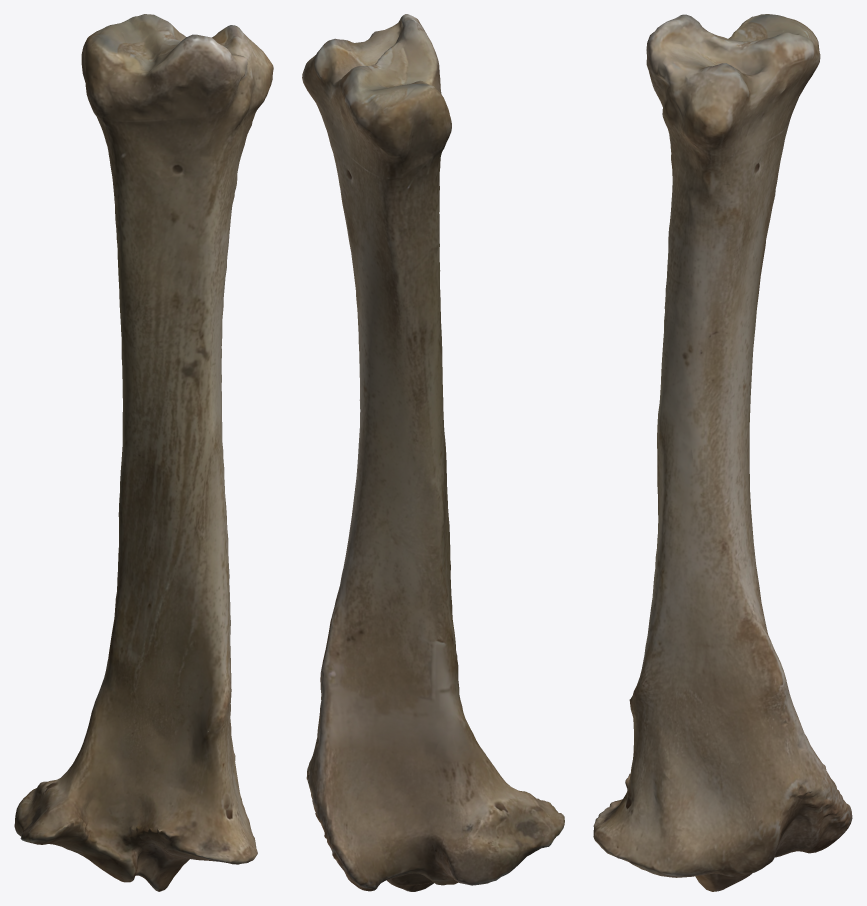
The model's file is tibia-direira-equina.glb.
3 views of the same model, side by side, from view 1: azimuth 30°, elevation 25°; view 2: azimuth 150°, elevation 25°; view 3: azimuth 270°, elevation 25° (orthographic). The views are drawn at different scales.
Visible parts, largest first — view 1: 3DModel_LowPoly; view 2: 3DModel_LowPoly; view 3: 3DModel_LowPoly.
Part boxes in pixels (left/top/right/bottom): 3DModel_LowPoly: left=14, top=14, right=273, bottom=891; 3DModel_LowPoly: left=302, top=14, right=564, bottom=891; 3DModel_LowPoly: left=593, top=14, right=852, bottom=891.
Size of the model in its own units: 0.6197 by 2.05 by 0.5436.
Materials: 1 (1 with a texture image).
